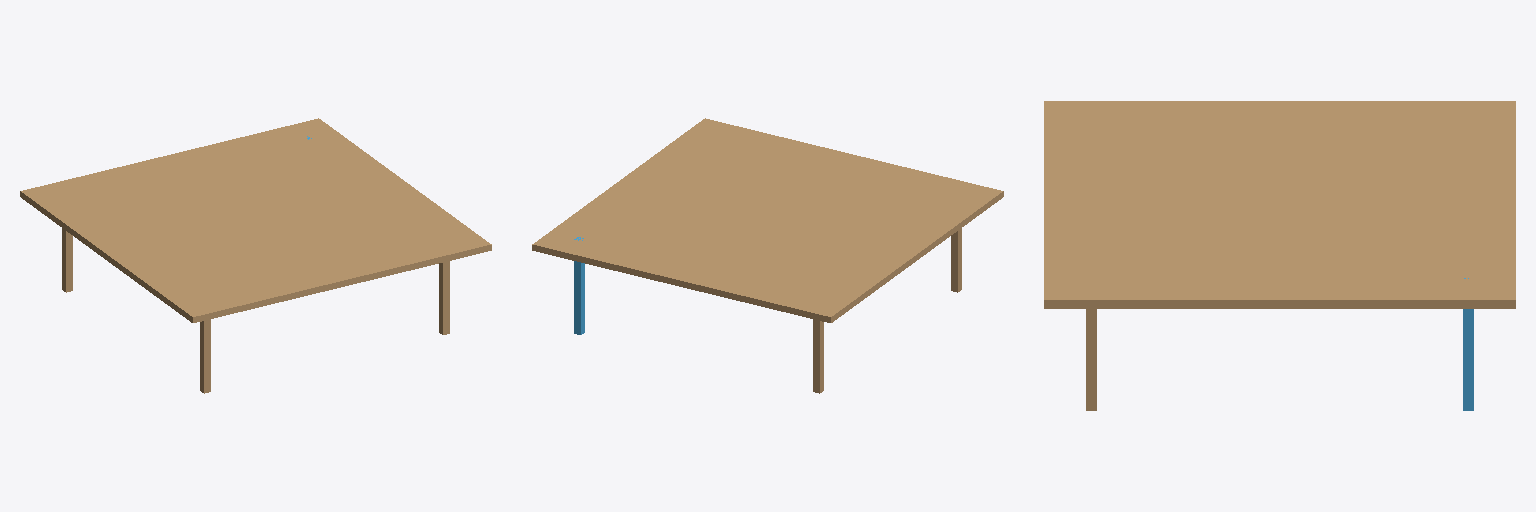
The robot description file, URDF, robot "urdf_table":
<?xml version="1.0" ?>
<robot name="urdf_table">
 <link name="world"/>
  <joint name="fixed" type="fixed">
    <parent link="world"/>
    <child link="baseLink"/>
    <origin xyz="0 0 0"/>
  </joint>

  <link name="baseLink">
    <inertial>
      <origin rpy="0 0 0" xyz="0 0 0.29"/>
       <mass value="0"/>
       <inertia ixx="0.1" ixy="0" ixz="0" iyy="0.1" iyz="0" izz="0.1"/>
    </inertial>
    <visual>
      <origin rpy="0 0 0" xyz="0 0 0.29"/>
      <geometry>
	      <!-- <mesh filename="table.obj" scale="1 1 0.08"/> -->
          <box size="1 1 0.02"/>
      </geometry>
	    <material name="framemat0">
        <color rgba="0.8 0.66 0.49 1" />
      </material>
    </visual>
    <collision>
      <origin rpy="0 0 0" xyz="0 0 0.29"/>
      <geometry>
          <box size="1 1 0.02"/>
      </geometry>
    </collision>   


    <visual>
      <origin rpy="0 0 0" xyz="-0.40 -0.40 0.15"/>
      <geometry>
        <box size="0.025 0.025 0.30"/>
      </geometry>
	  <material name="framemat0"/>	 
    </visual>
    <visual>
      <origin rpy="0 0 0" xyz="-0.40 0.40 0.15"/>
      <geometry>
        <box size="0.025 0.025 0.30"/>
      </geometry>
	  <material name="framemat0"/>
	  </visual>
    <visual>
      <origin rpy="0 0 0" xyz="0.40 -0.40 0.15"/>
      <geometry>
        <box size="0.025 0.025 0.30"/>
      </geometry>
	  <material name="framemat0"/>
	  </visual>
    <visual>
      <origin rpy="0 0 0" xyz="0.40 0.40 0.15"/>
      <geometry>
        <box size="0.025 0.025 0.30"/>
      </geometry>
    </visual>
   
  </link>
</robot>

--- What the picture shows (computed from the rendered views, not written in the file) ---
3 views of the same robot in one strip: view 1: azimuth 30°, elevation 25°; view 2: azimuth 150°, elevation 25°; view 3: azimuth 270°, elevation 25° (orthographic).
Model urdf_table with 2 links and 1 joints (1 fixed), rooted at world, posed all joints at 0.
Visible links, largest first — view 1: baseLink; view 2: baseLink; view 3: baseLink.
Boxes of the visible links, left/top/right/bottom form: baseLink: left=20, top=118, right=491, bottom=393; baseLink: left=532, top=118, right=1003, bottom=393; baseLink: left=1044, top=101, right=1515, bottom=410.
Bounding box of the posed robot: 1 × 1 × 0.3 m (x, y, z).
Geometry: primitives only (box / cylinder / sphere), no mesh files.
